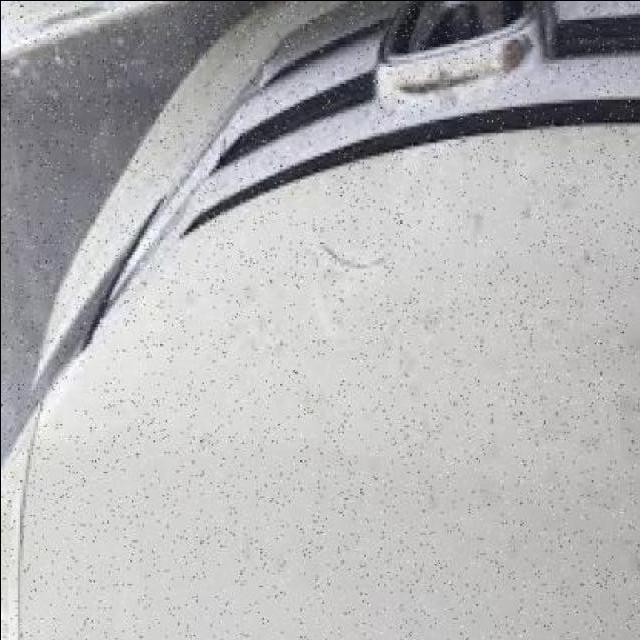bonnet-dent: (66, 51, 640, 627)
